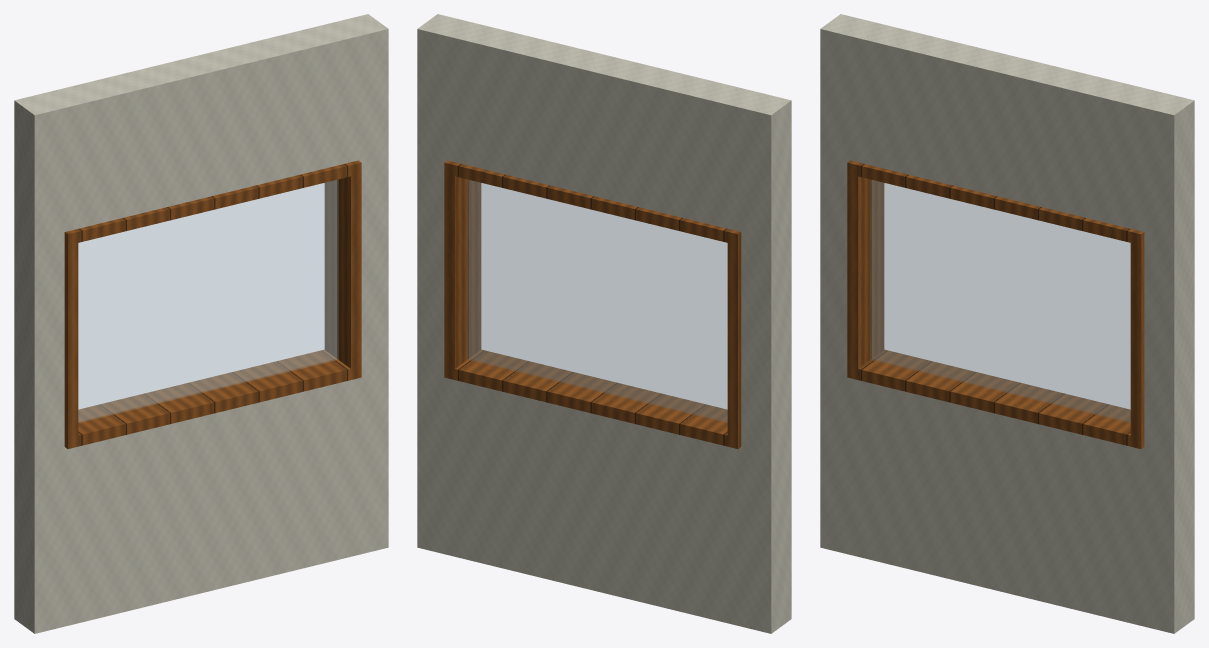
The model's file is window_wide.glb.
3 views of the same model, side by side, from view 1: azimuth 30°, elevation 25°; view 2: azimuth 150°, elevation 25°; view 3: azimuth 330°, elevation 25° (orthographic).
Visible parts, largest first — view 1: window_wide_SillWall, window_wide_Glass, window_wide_Header, window_wide_Left, window_wide_Right, window_wide_FrameB, window_wide_FrameR, window_wide_FrameT, window_wide_FrameL; view 2: window_wide_SillWall, window_wide_Glass, window_wide_Header, window_wide_Left, window_wide_Right, window_wide_FrameB, window_wide_FrameR, window_wide_FrameT, window_wide_FrameL; view 3: window_wide_SillWall, window_wide_Glass, window_wide_Header, window_wide_Right, window_wide_Left, window_wide_FrameB, window_wide_FrameL, window_wide_FrameT, window_wide_FrameR.
Part boxes in pixels (x1=…): window_wide_SillWall: x1=70, y1=379, x2=353, y2=625; window_wide_Glass: x1=78, y1=180, x2=338, y2=422; window_wide_Header: x1=50, y1=22, x2=353, y2=230; window_wide_Left: x1=14, y1=92, x2=69, y2=633; window_wide_Right: x1=333, y1=14, x2=388, y2=555; window_wide_FrameB: x1=78, y1=349, x2=350, y2=446; window_wide_FrameR: x1=324, y1=160, x2=361, y2=379; window_wide_FrameT: x1=75, y1=163, x2=350, y2=242; window_wide_FrameL: x1=64, y1=229, x2=78, y2=448; window_wide_SillWall: x1=452, y1=379, x2=735, y2=625; window_wide_Glass: x1=467, y1=180, x2=727, y2=422; window_wide_Header: x1=452, y1=22, x2=755, y2=230; window_wide_Left: x1=736, y1=92, x2=791, y2=633; window_wide_Right: x1=417, y1=14, x2=472, y2=555; window_wide_FrameB: x1=455, y1=349, x2=727, y2=446; window_wide_FrameR: x1=444, y1=160, x2=481, y2=379; window_wide_FrameT: x1=455, y1=163, x2=730, y2=242; window_wide_FrameL: x1=727, y1=229, x2=741, y2=448; window_wide_SillWall: x1=855, y1=379, x2=1138, y2=625; window_wide_Glass: x1=870, y1=180, x2=1130, y2=422; window_wide_Header: x1=855, y1=22, x2=1158, y2=230; window_wide_Right: x1=1139, y1=92, x2=1194, y2=633; window_wide_Left: x1=820, y1=14, x2=875, y2=555; window_wide_FrameB: x1=858, y1=349, x2=1130, y2=446; window_wide_FrameL: x1=847, y1=160, x2=884, y2=379; window_wide_FrameT: x1=858, y1=163, x2=1133, y2=242; window_wide_FrameR: x1=1130, y1=229, x2=1144, y2=448.
Size of the model in its own units: 2 by 2.8 by 0.26.
Materials: 3 (2 with a texture image).
